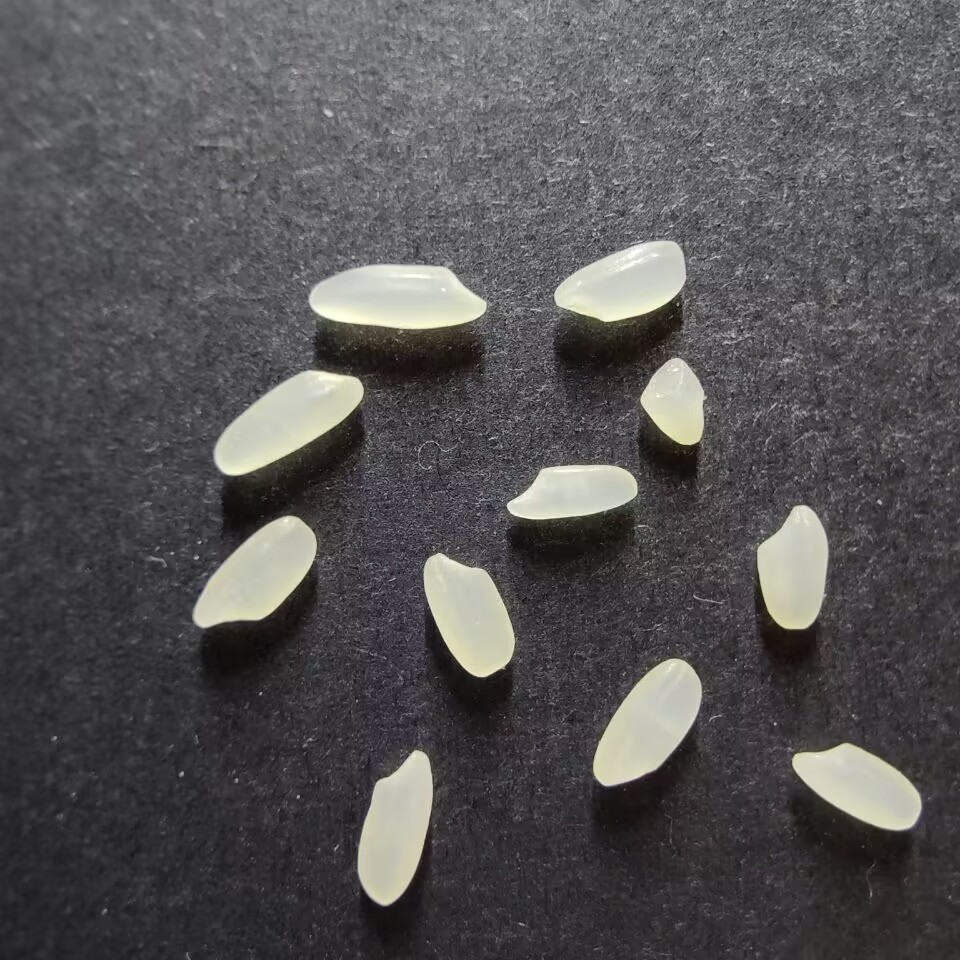broken: (639, 357, 706, 445)
rice: (214, 370, 363, 475), (192, 515, 318, 628), (593, 658, 703, 786), (357, 750, 434, 905), (309, 263, 488, 329), (423, 552, 516, 677), (792, 742, 922, 830), (554, 240, 688, 322), (756, 504, 829, 630), (507, 464, 639, 519)
